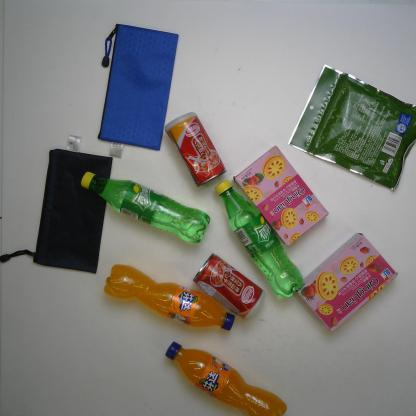Canned Food: (163, 112, 228, 187), (192, 254, 264, 318)
Dessert: (296, 232, 399, 333), (231, 144, 328, 246)
Dried Fruit: (290, 63, 414, 192)
Drink: (217, 180, 306, 301), (78, 170, 211, 244), (102, 263, 236, 333), (162, 340, 286, 414)
Stationery: (1, 136, 114, 274), (96, 23, 178, 159)
